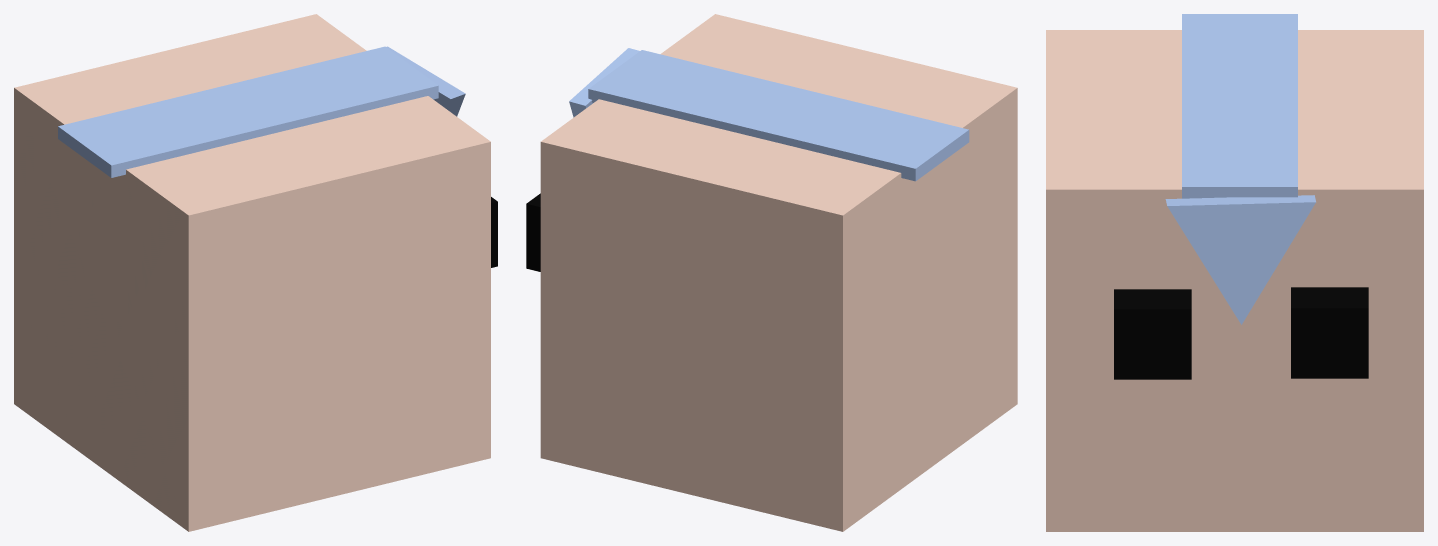
File: aang2.fbx
3 views of the same model, side by side, from view 1: azimuth 30°, elevation 25°; view 2: azimuth 150°, elevation 25°; view 3: azimuth 270°, elevation 25° (orthographic). The views are drawn at different scales.
Parts seen in each view (by area): view 1: cabeca 1, seta, tri; view 2: cabeca 1, seta, olho 1, tri; view 3: cabeca 1, seta, tri, olho 1, olho 2.
Part boxes in pixels (x1,y1,x2,y2): cabeca 1: (14, 14, 490, 531); seta: (58, 46, 438, 177); tri: (386, 46, 465, 116); cabeca 1: (540, 14, 1017, 531); seta: (588, 50, 969, 181); olho 1: (526, 193, 540, 271); tri: (569, 48, 639, 117); cabeca 1: (1046, 30, 1423, 531); seta: (1182, 14, 1297, 198); tri: (1165, 195, 1315, 324); olho 1: (1291, 287, 1368, 378); olho 2: (1114, 289, 1191, 379).
Size of the model in its own units: 236 by 205 by 200.
